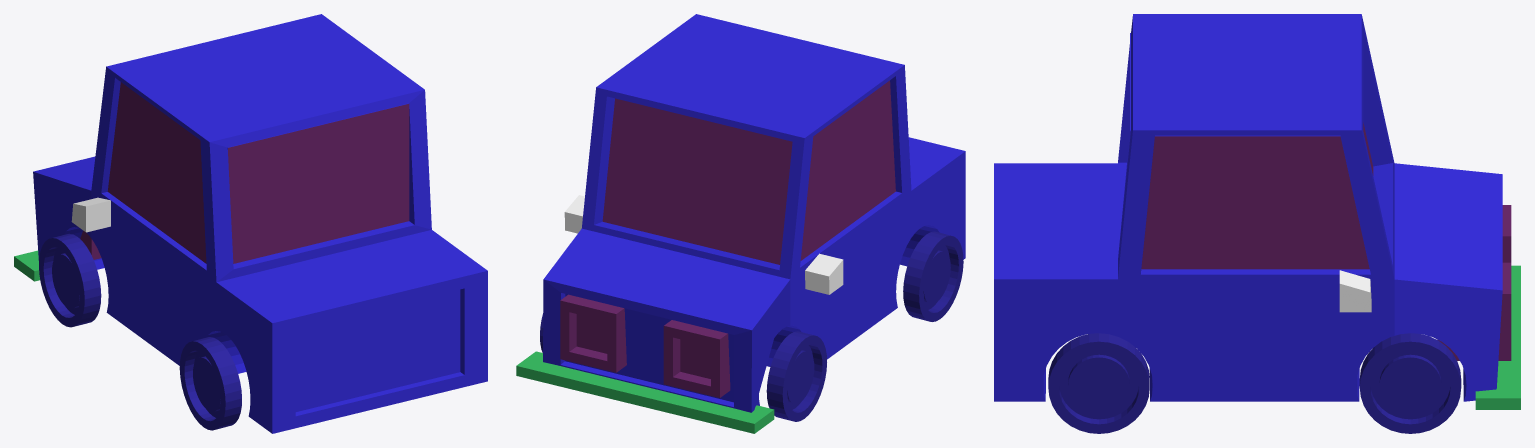
The model's file is Car.glb.
3 views of the same model, side by side, from view 1: azimuth 30°, elevation 25°; view 2: azimuth 150°, elevation 25°; view 3: azimuth 270°, elevation 25° (orthographic). The views are drawn at different scales.
Visible parts, largest first — view 1: Cube, Cylinder.003, Cylinder.004, Cube.004, Cube.003; view 2: Cube, Cube.003, Cube.002, Cube.001, Cylinder.004, Cylinder.003, Cube.004, Cube.005; view 3: Cube, Cylinder.005, Cylinder.002, Cube.003, Cube.005, Cube.001, Cube.002.
Boxes of the visible parts, x1,y1,x2,y2 form: Cube: (33, 14, 487, 433); Cylinder.003: (39, 233, 101, 327); Cylinder.004: (179, 337, 241, 430); Cube.004: (71, 197, 110, 232); Cube.003: (14, 250, 40, 281); Cube: (543, 14, 965, 412); Cube.003: (516, 351, 774, 433); Cube.002: (663, 320, 730, 397); Cube.001: (560, 294, 626, 372); Cylinder.004: (903, 231, 963, 321); Cylinder.003: (766, 331, 826, 421); Cube.004: (805, 253, 843, 294); Cube.005: (564, 195, 584, 233); Cube: (994, 14, 1502, 401); Cylinder.005: (1359, 333, 1461, 433); Cylinder.002: (1048, 333, 1149, 433); Cube.003: (1475, 265, 1520, 409); Cube.005: (1339, 270, 1371, 312); Cube.001: (1437, 262, 1511, 360); Cube.002: (1502, 205, 1511, 262).
Size of what is drawn, in the model's own units: 3.13 by 2.93 by 4.72.
